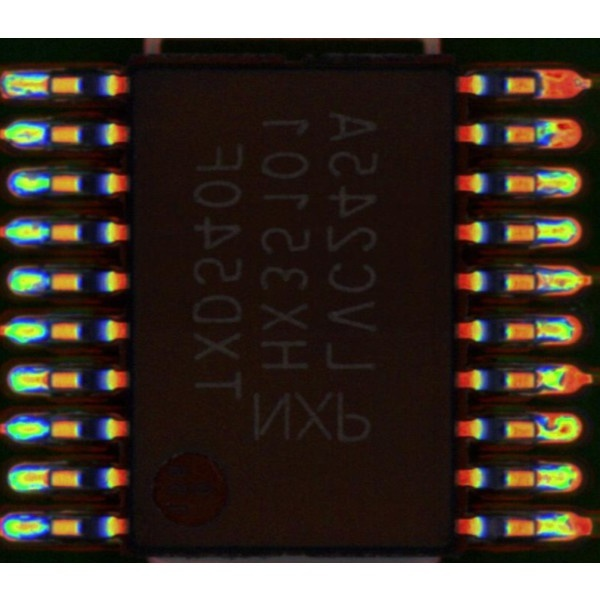Bad_podu: (24, 471, 66, 487), (17, 79, 67, 92), (24, 375, 68, 388), (519, 276, 565, 287), (519, 178, 565, 188), (520, 473, 554, 485), (521, 324, 558, 335)
